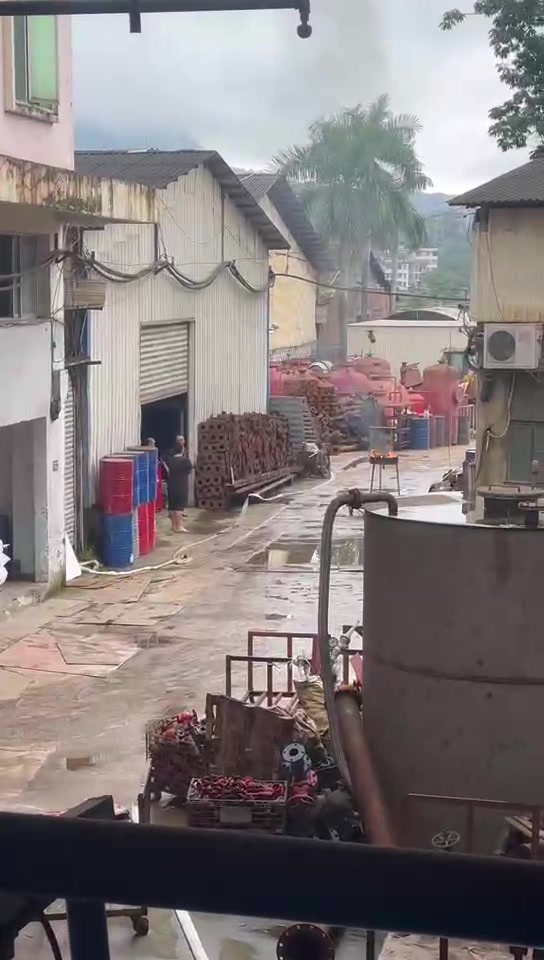fire: (382, 449, 394, 457)
